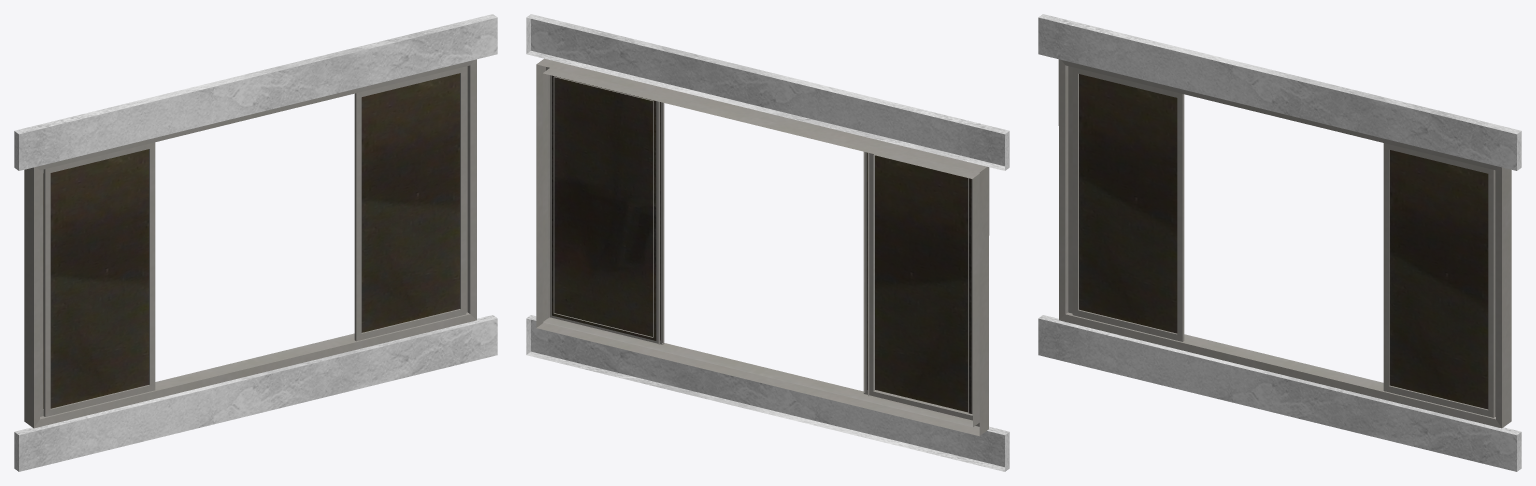
Rendered from Window_1m_005.fbx.
The picture shows the model from 3 angles, left to right: view 1: azimuth 30°, elevation 25°; view 2: azimuth 150°, elevation 25°; view 3: azimuth 330°, elevation 25°; orthographic projection.
Parts seen in each view (by area): view 1: Window_1m_005; view 2: Window_1m_005; view 3: Window_1m_005.
Boxes of the visible parts, bbox=[...] form: Window_1m_005: bbox=[14, 14, 497, 471]; Window_1m_005: bbox=[526, 14, 1009, 471]; Window_1m_005: bbox=[1038, 14, 1521, 471].
Size of the model in its own units: 148 by 100 by 6.75.
Materials: 1 (1 with a texture image).
